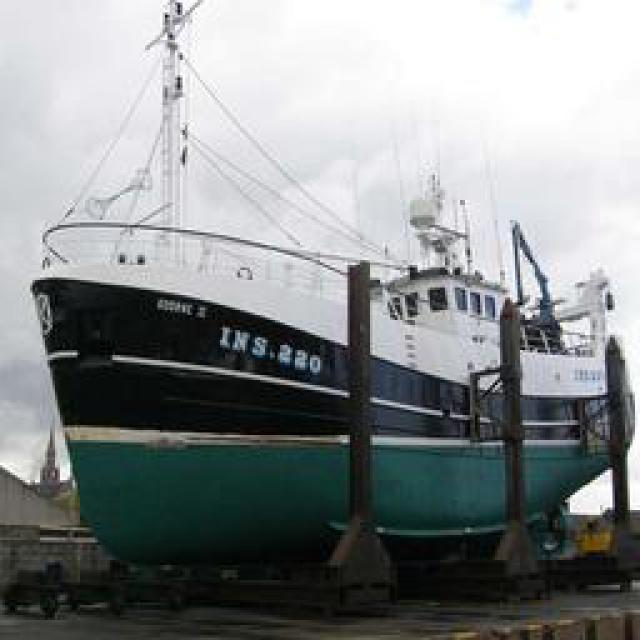Ship: (29, 46, 629, 586)
